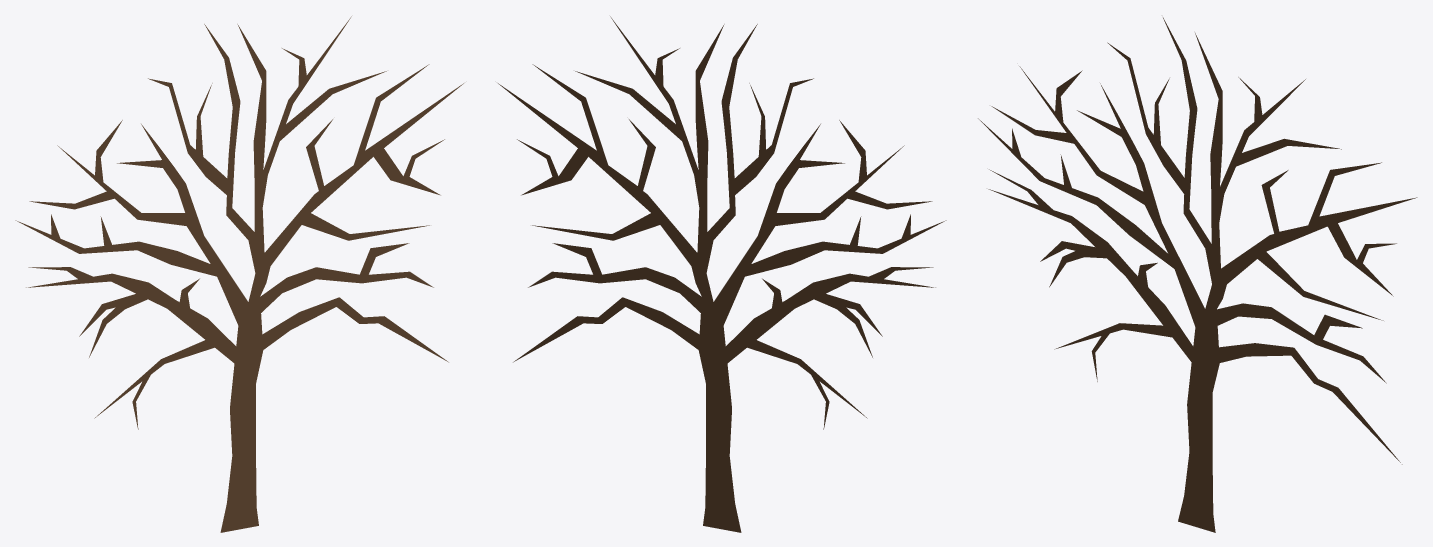
Rendered from OakTree_01.fbx.
The picture shows the model from 3 angles, left to right: view 1: azimuth 30°, elevation 25°; view 2: azimuth 150°, elevation 25°; view 3: azimuth 330°, elevation 25°; orthographic projection. The views are drawn at different scales.
Parts seen in each view (by area): view 1: planarTrimmedSurface1; view 2: planarTrimmedSurface1; view 3: planarTrimmedSurface1.
Part boxes in pixels (x1,y1,x2,y2): planarTrimmedSurface1: (15, 16, 463, 532); planarTrimmedSurface1: (498, 16, 946, 532); planarTrimmedSurface1: (978, 17, 1417, 532).
Bounding box in the file's own units: 17.47 × 19.07 × 0.
Materials: 1 (1 with a texture image).
